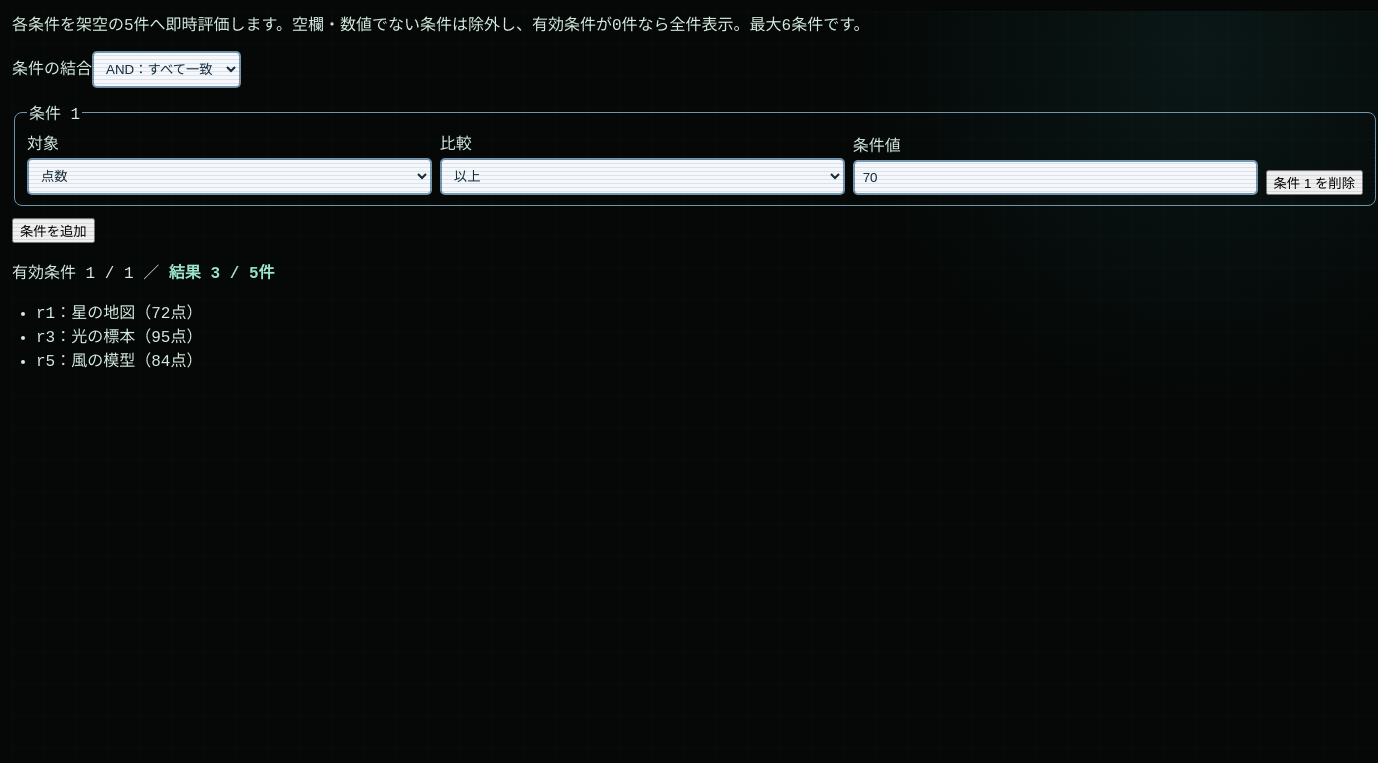
Test case: filter caps conditions and preserves other stable conditions on deletion
Later steps or results of the test are not shown.
Click the button "条件を追加". click: click(53, 230)
box: [12,218,95,243]
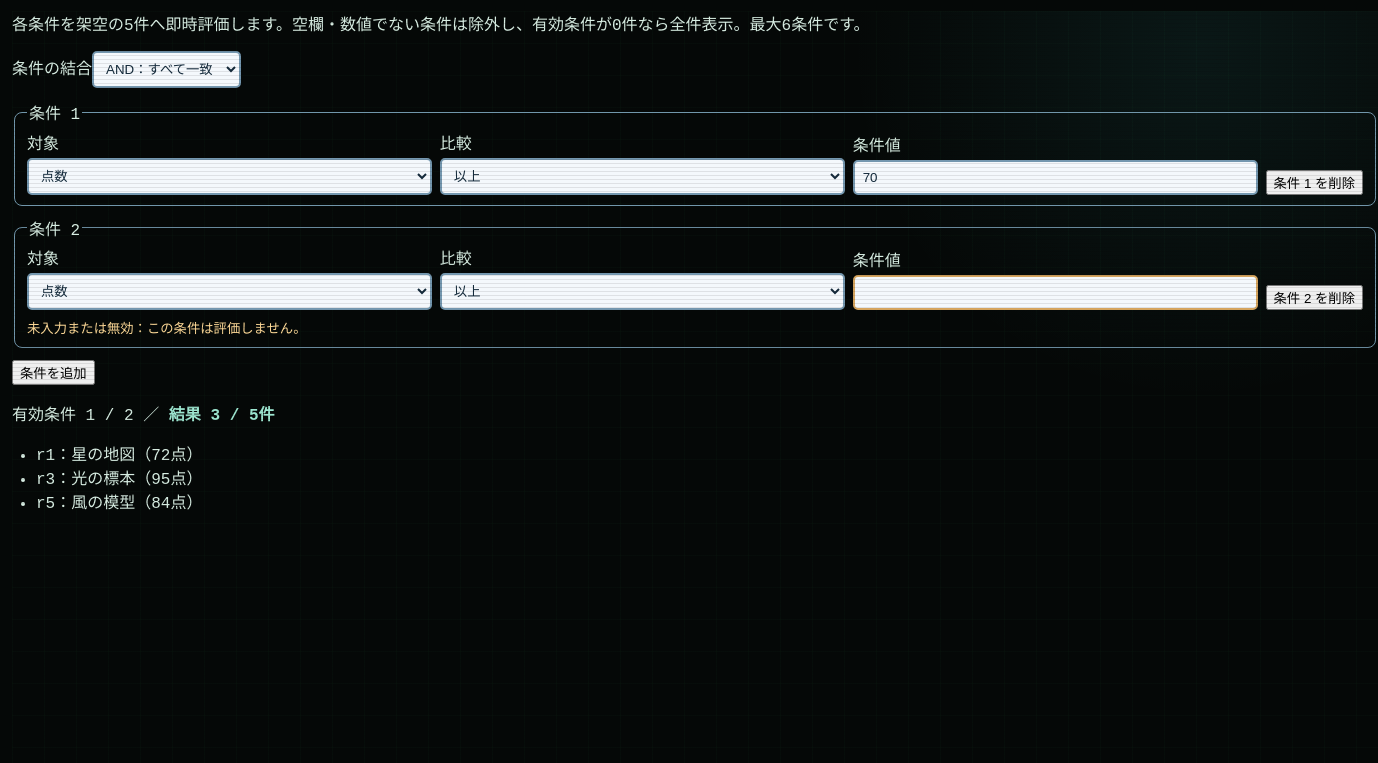
Click the button "条件を追加". click: click(53, 373)
box: [12,360,95,385]
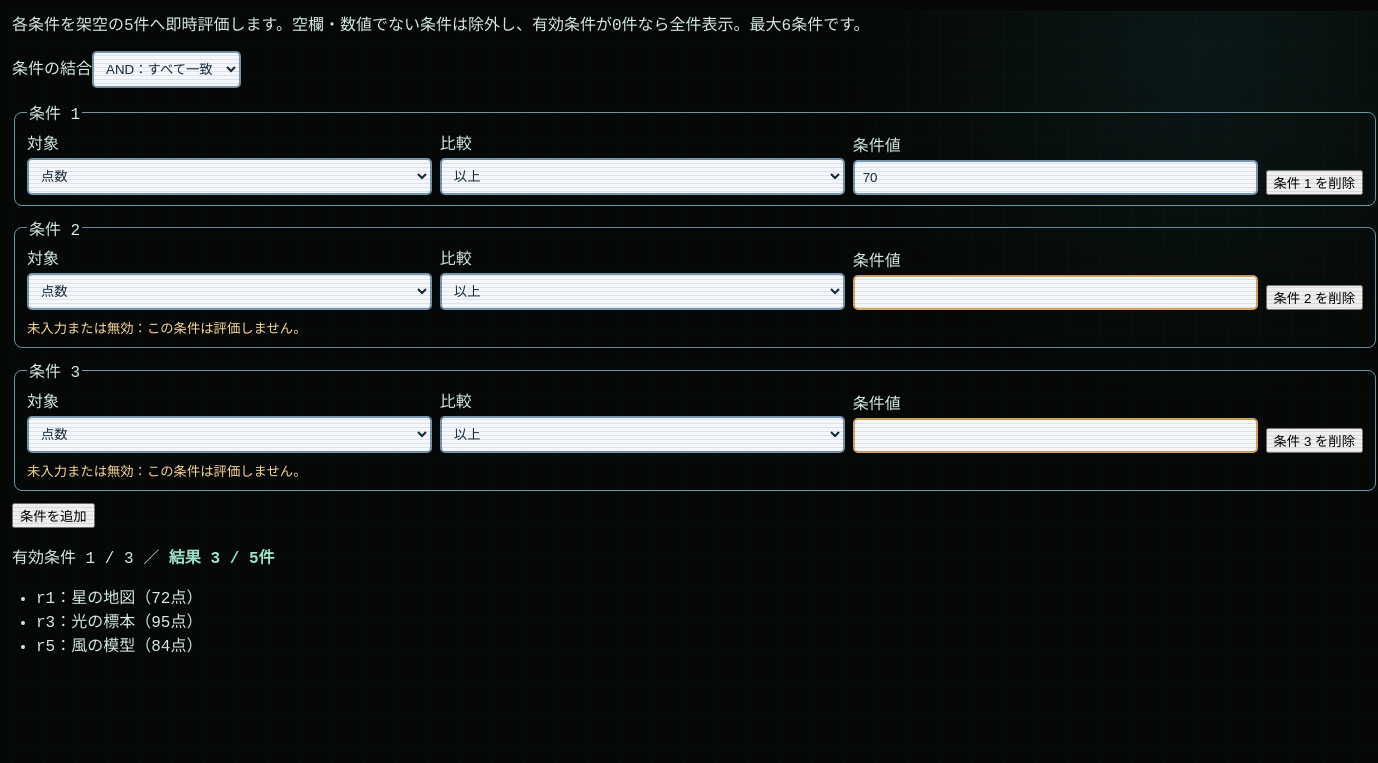
Click the button "条件を追加". click: click(53, 515)
box: [12,503,95,528]
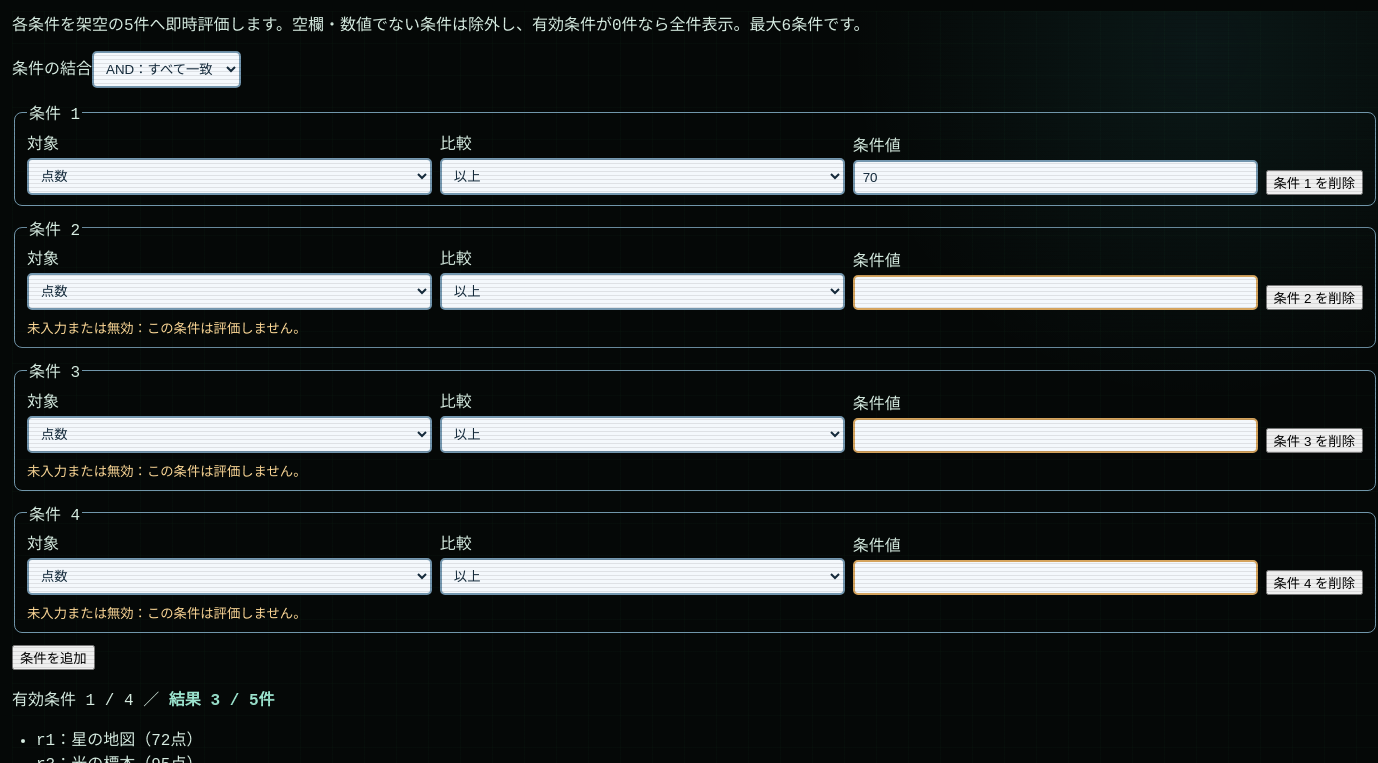
Click the button "条件を追加". click: click(53, 658)
box: [12,645,95,670]
(page scrolled)
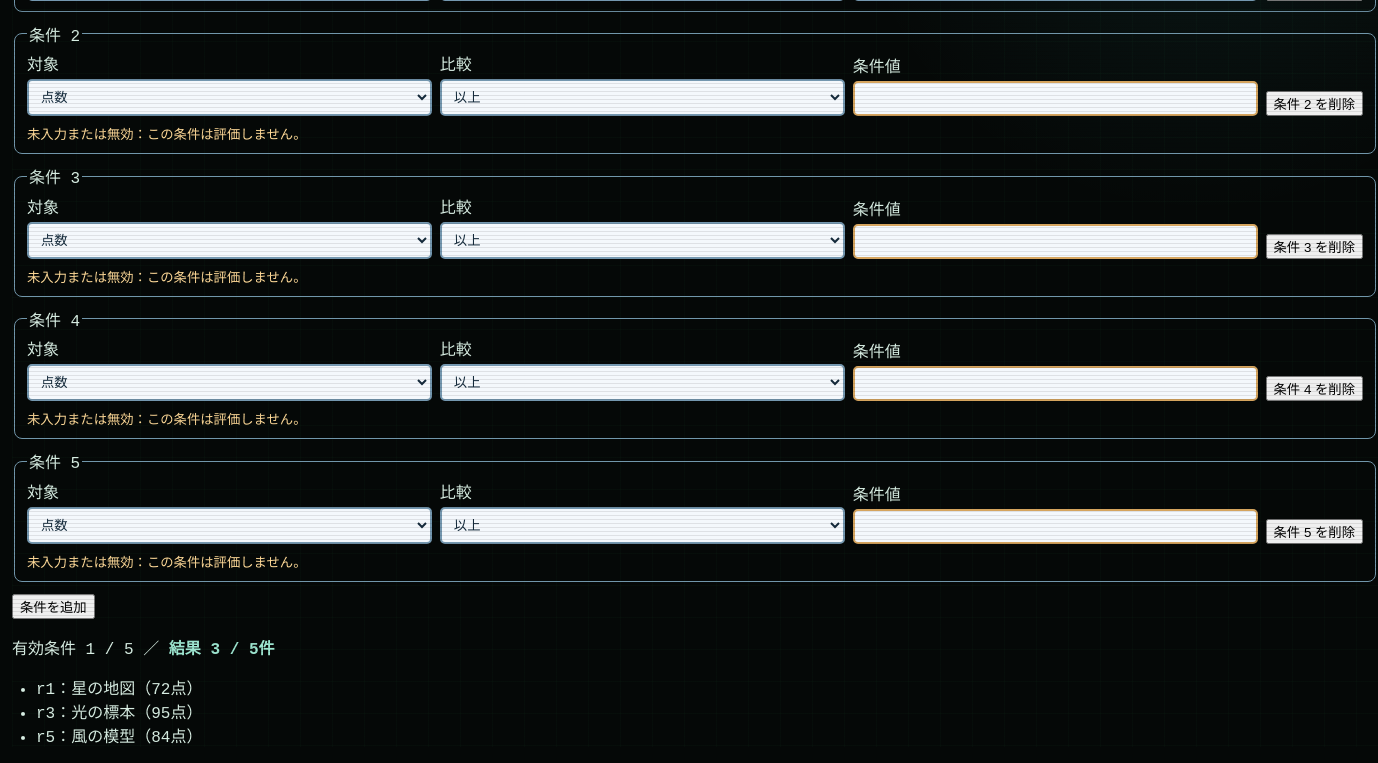
Click the button "条件を追加". click: click(53, 606)
box: [12,594,95,619]
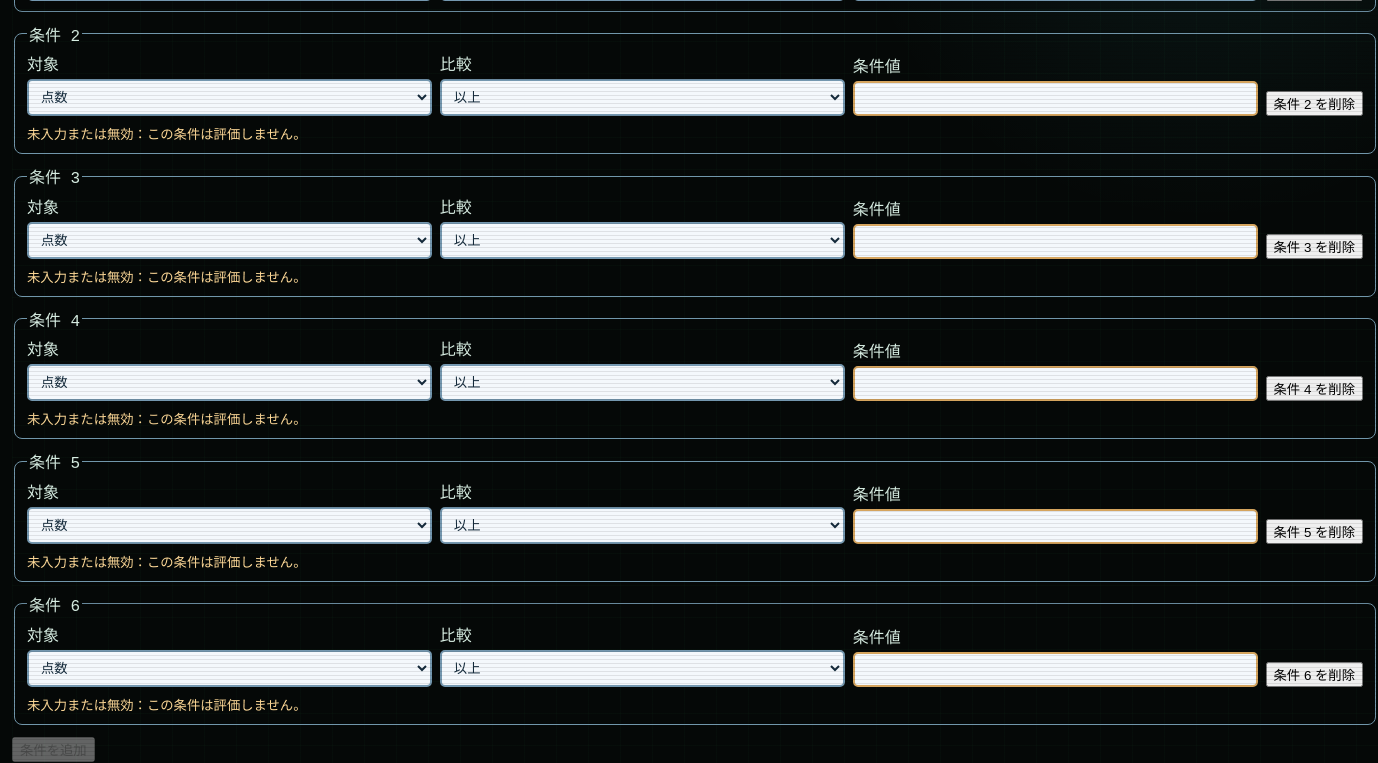
Result: the button "条件を追加" is disabled at [12,737,95,762]
